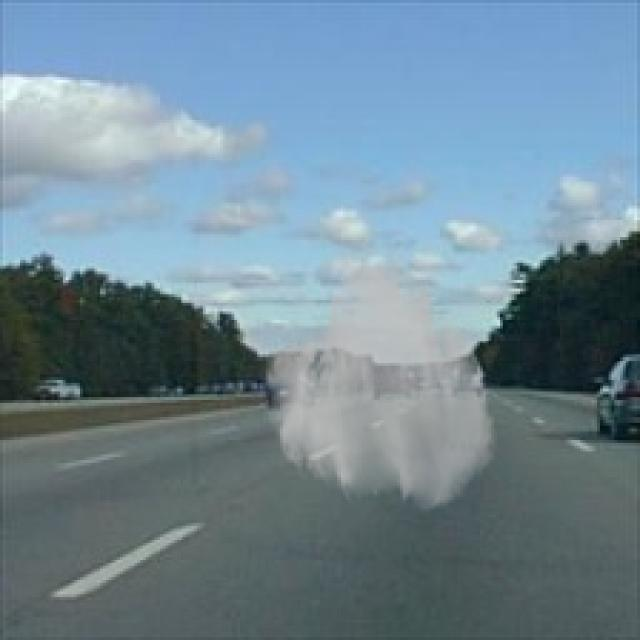Smoke: (260, 246, 497, 514)
